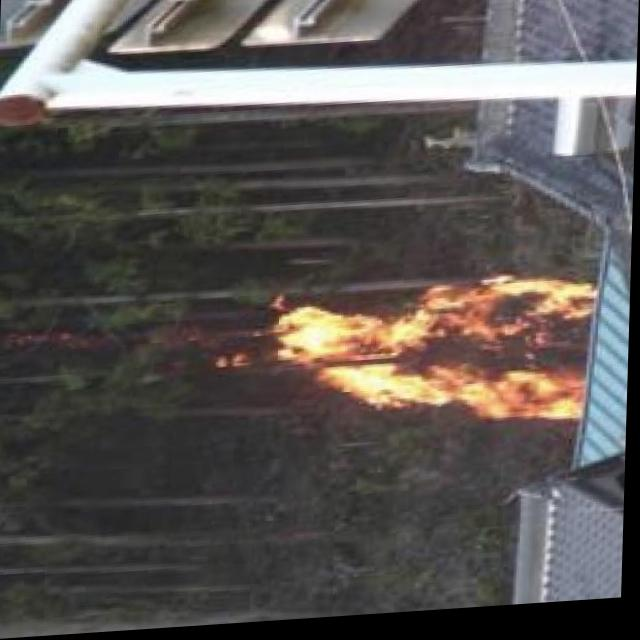Fire: (259, 268, 597, 446)
